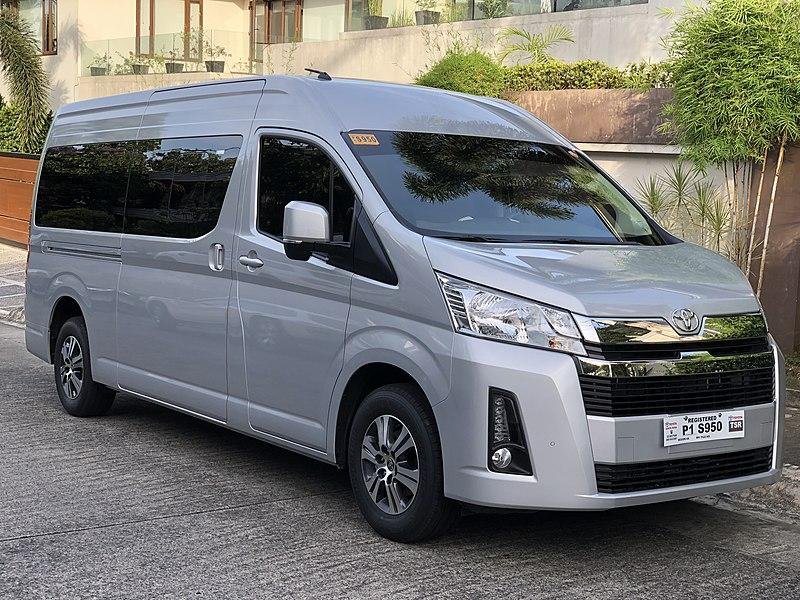van: (24, 74, 784, 543)
